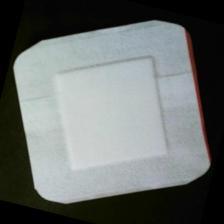Dressing: (1, 1, 224, 224)
Red_T: (137, 20, 224, 199)
